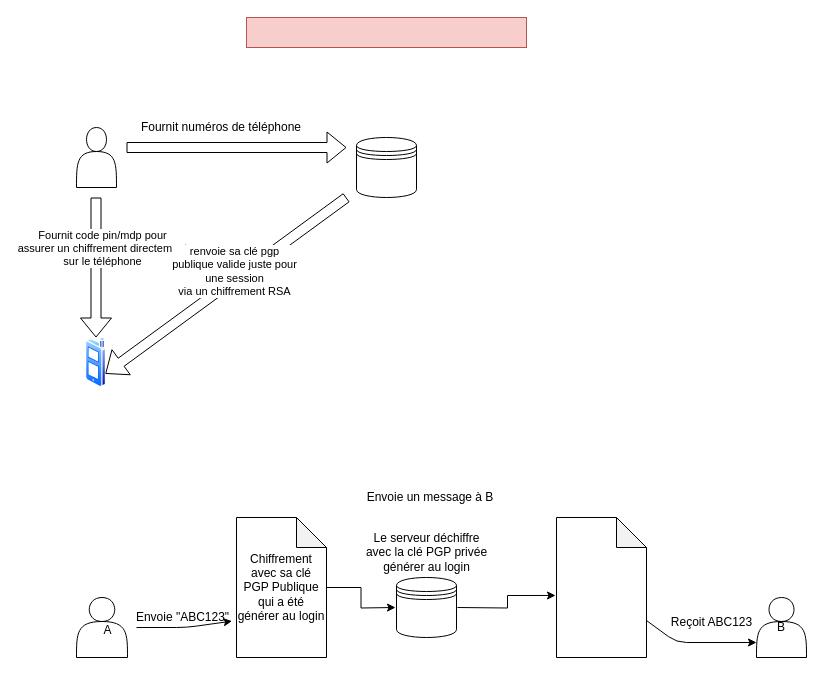
The diagram is 824 pixels wide and 675 high, and some of its shapes have lost their labels. The shapes that lost their labels are listed below. From the top down, each one's box as (x1, y1, x2, y2) in pixels, then its label:
(246, 16, 526, 48): Système de création de compte
(556, 516, 646, 658): Déchiffrement avec la clé PGP privé fournit au login
